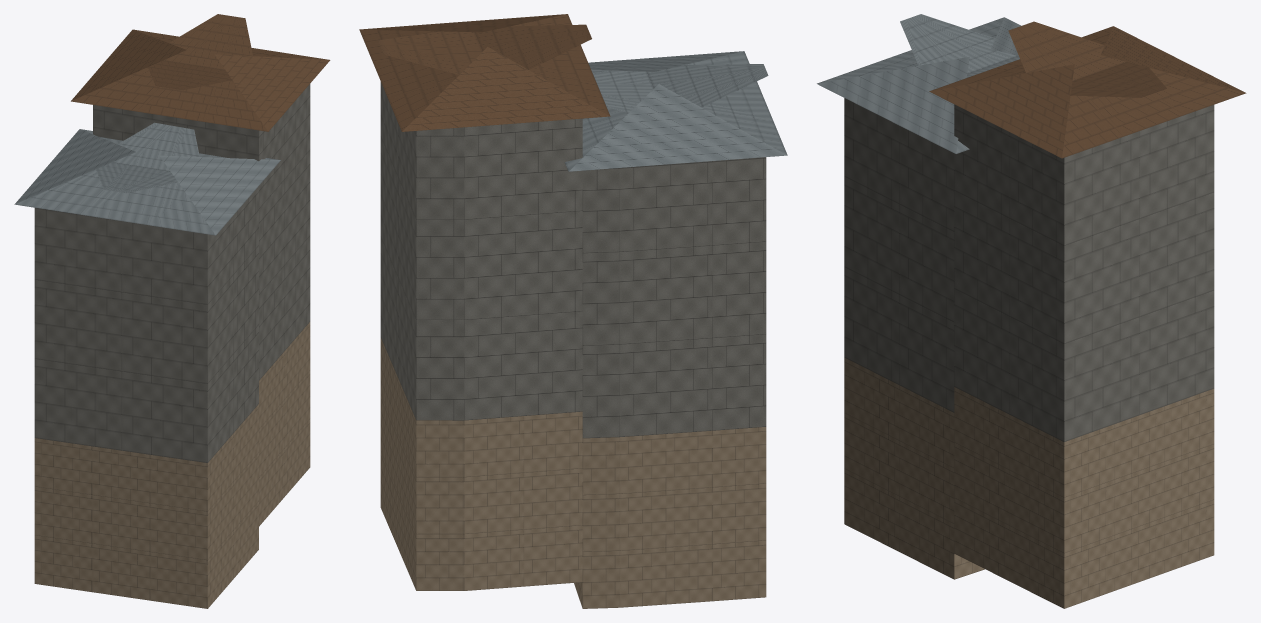
File: bld_c15_26_398.gltf
3 views of the same model, side by side, from view 1: azimuth 30°, elevation 25°; view 2: azimuth 150°, elevation 25°; view 3: azimuth 270°, elevation 25° (orthographic). The views are drawn at different scales.
Parts seen in each view (by area): view 1: bld_c15_26_398; view 2: bld_c15_26_398; view 3: bld_c15_26_398.
Boxes of the visible parts, left/top/right/bottom form: bld_c15_26_398: left=14, top=14, right=330, bottom=608; bld_c15_26_398: left=359, top=14, right=787, bottom=608; bld_c15_26_398: left=817, top=14, right=1246, bottom=608.
Bounding box in the file's own units: 12.49 × 15.9 × 11.92.
4 materials, 4 textured.
